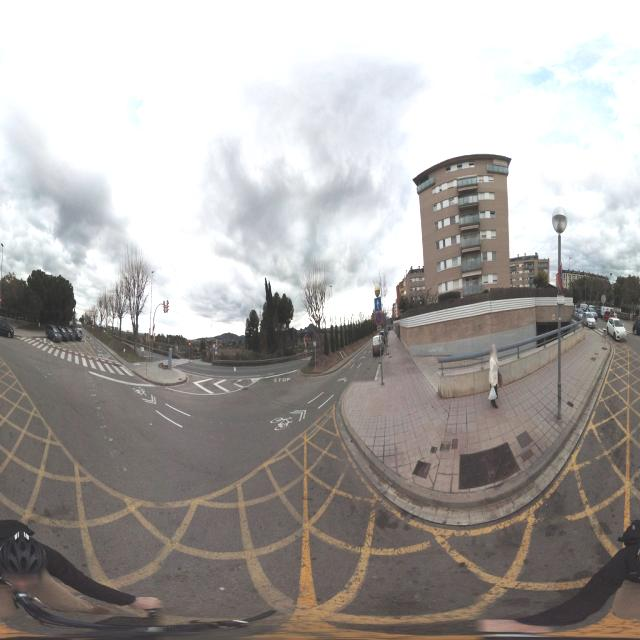car: (45, 323, 67, 343), (610, 318, 628, 341), (0, 316, 15, 338), (372, 330, 383, 358), (68, 322, 83, 342), (632, 316, 640, 336), (601, 305, 611, 319)
